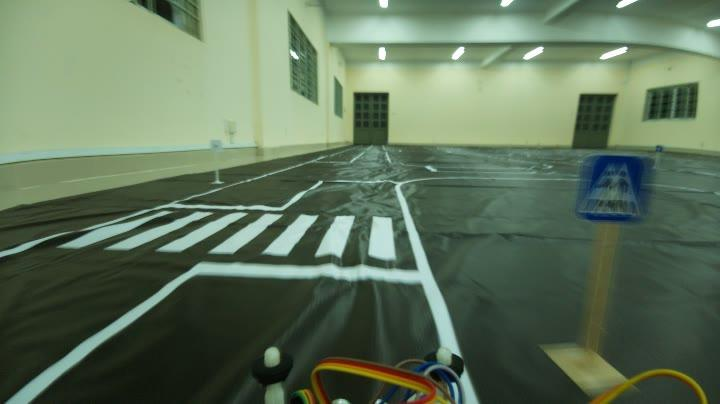crosswalk: (573, 156, 650, 224)
